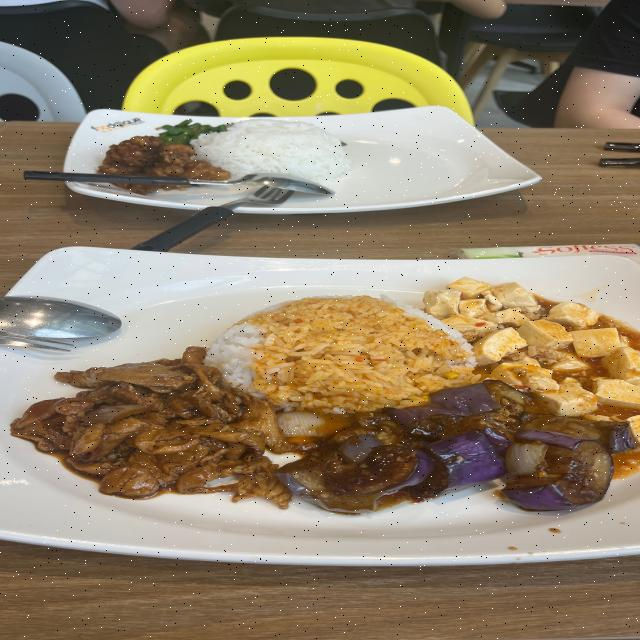Chicken: (11, 347, 290, 508), (97, 136, 230, 180), (119, 184, 176, 194)
Green veg: (159, 120, 228, 145), (341, 141, 346, 146)
Non green veg: (280, 381, 635, 514)
Rice: (206, 296, 479, 415), (191, 120, 350, 183)
Tofu: (490, 362, 596, 416), (570, 328, 640, 385), (423, 289, 498, 342), (473, 328, 527, 365), (543, 302, 599, 330), (518, 320, 571, 348), (593, 378, 640, 403), (492, 282, 537, 308), (552, 355, 590, 383), (447, 277, 491, 299), (481, 309, 527, 327), (627, 415, 640, 446)
